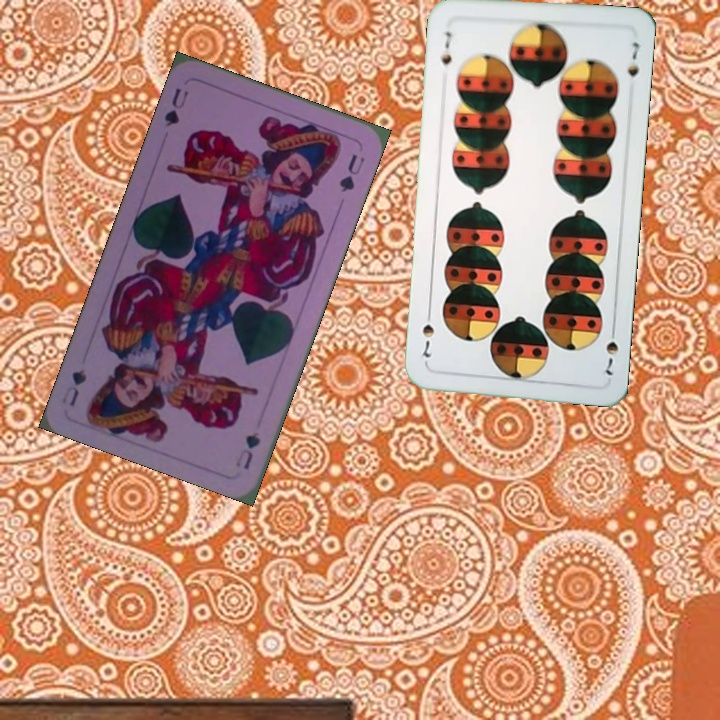GU: (160, 84, 192, 130), (231, 428, 263, 472)
S7: (598, 321, 621, 378), (437, 28, 455, 72)
